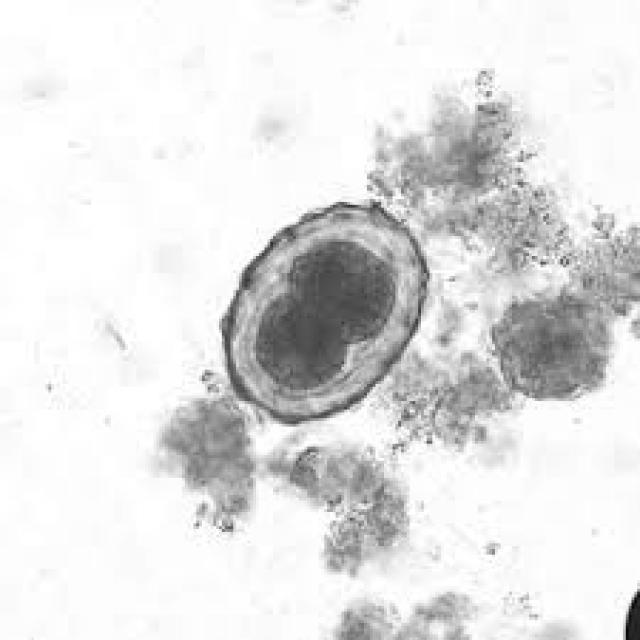Ascaris Lumbricoides: (211, 195, 435, 434)
